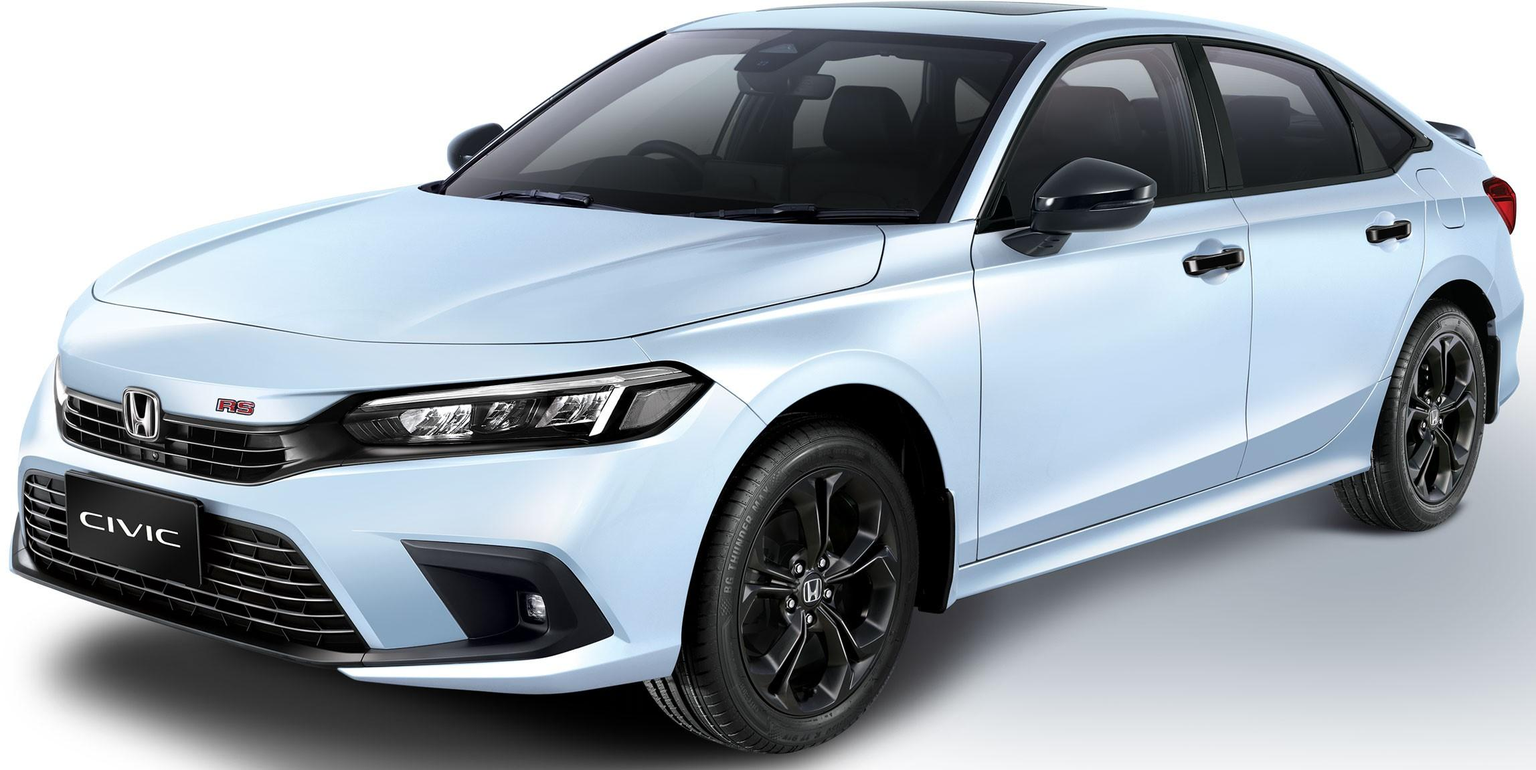Sedan: (0, 10, 1531, 770)
